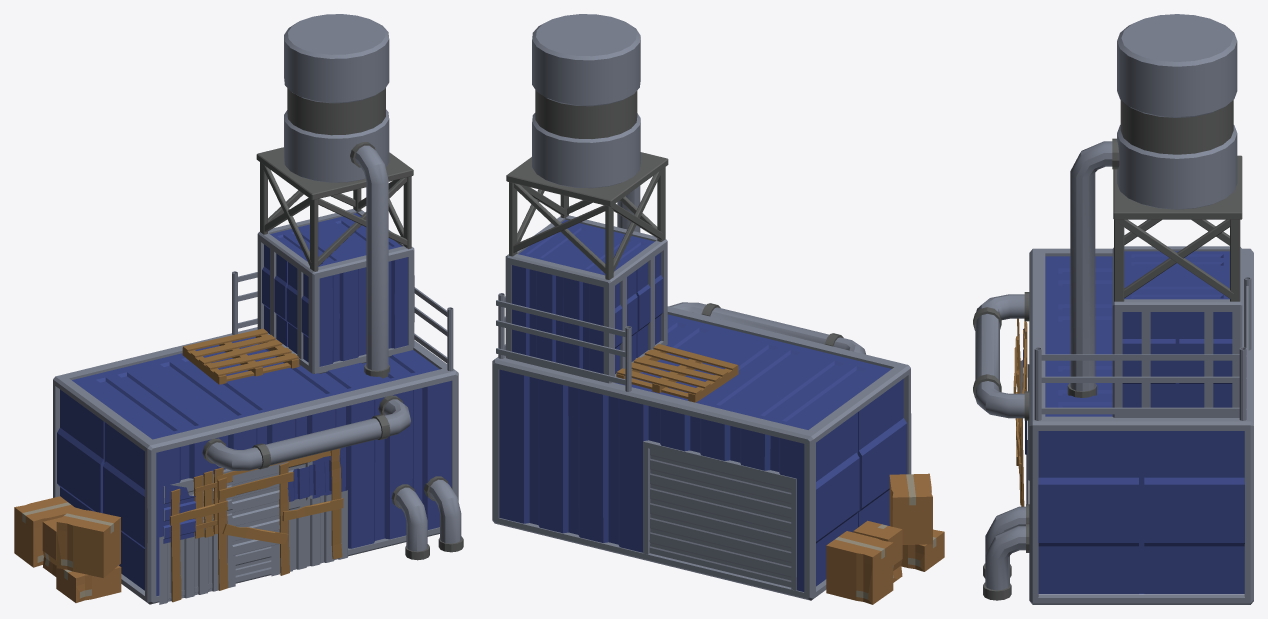
Rendered from structure.glb.
3 renders of one model, left to right at view 1: azimuth 30°, elevation 25°; view 2: azimuth 150°, elevation 25°; view 3: azimuth 270°, elevation 25°, orthographic. The views are drawn at different scales.
Parts seen in each view (by area): view 1: Structure_3; view 2: Structure_3; view 3: Structure_3.
Part boxes in pixels (<box>): Structure_3: <box>14,14,463,604</box>; Structure_3: <box>492,14,944,604</box>; Structure_3: <box>973,14,1253,604</box>.
Size of the model in its own units: 7.87 by 9.52 by 4.52.
1 material, 1 textured.
